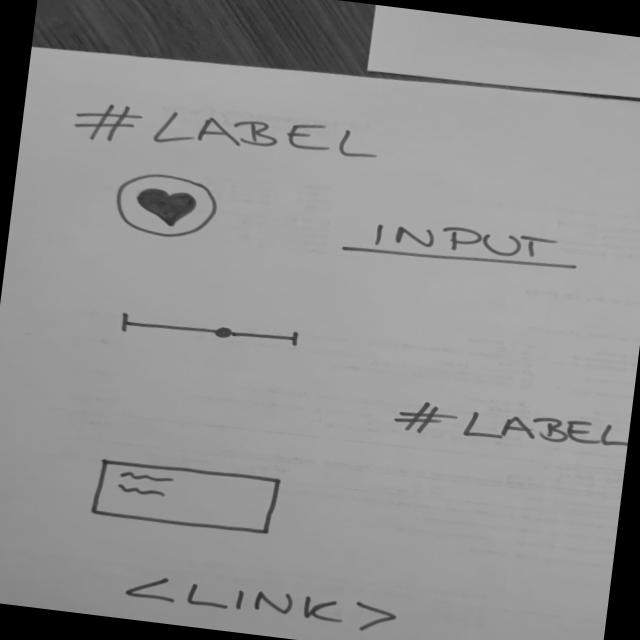icon-button: (111, 168, 226, 246)
input: (337, 208, 591, 284)
label: (66, 91, 387, 179), (388, 392, 631, 465)
link: (120, 568, 403, 640)
slider: (115, 307, 309, 356)
textarea: (88, 452, 288, 539)
